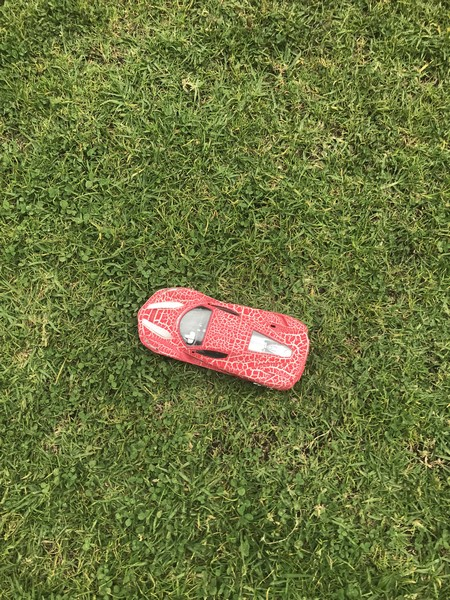RC: (135, 283, 311, 396)
